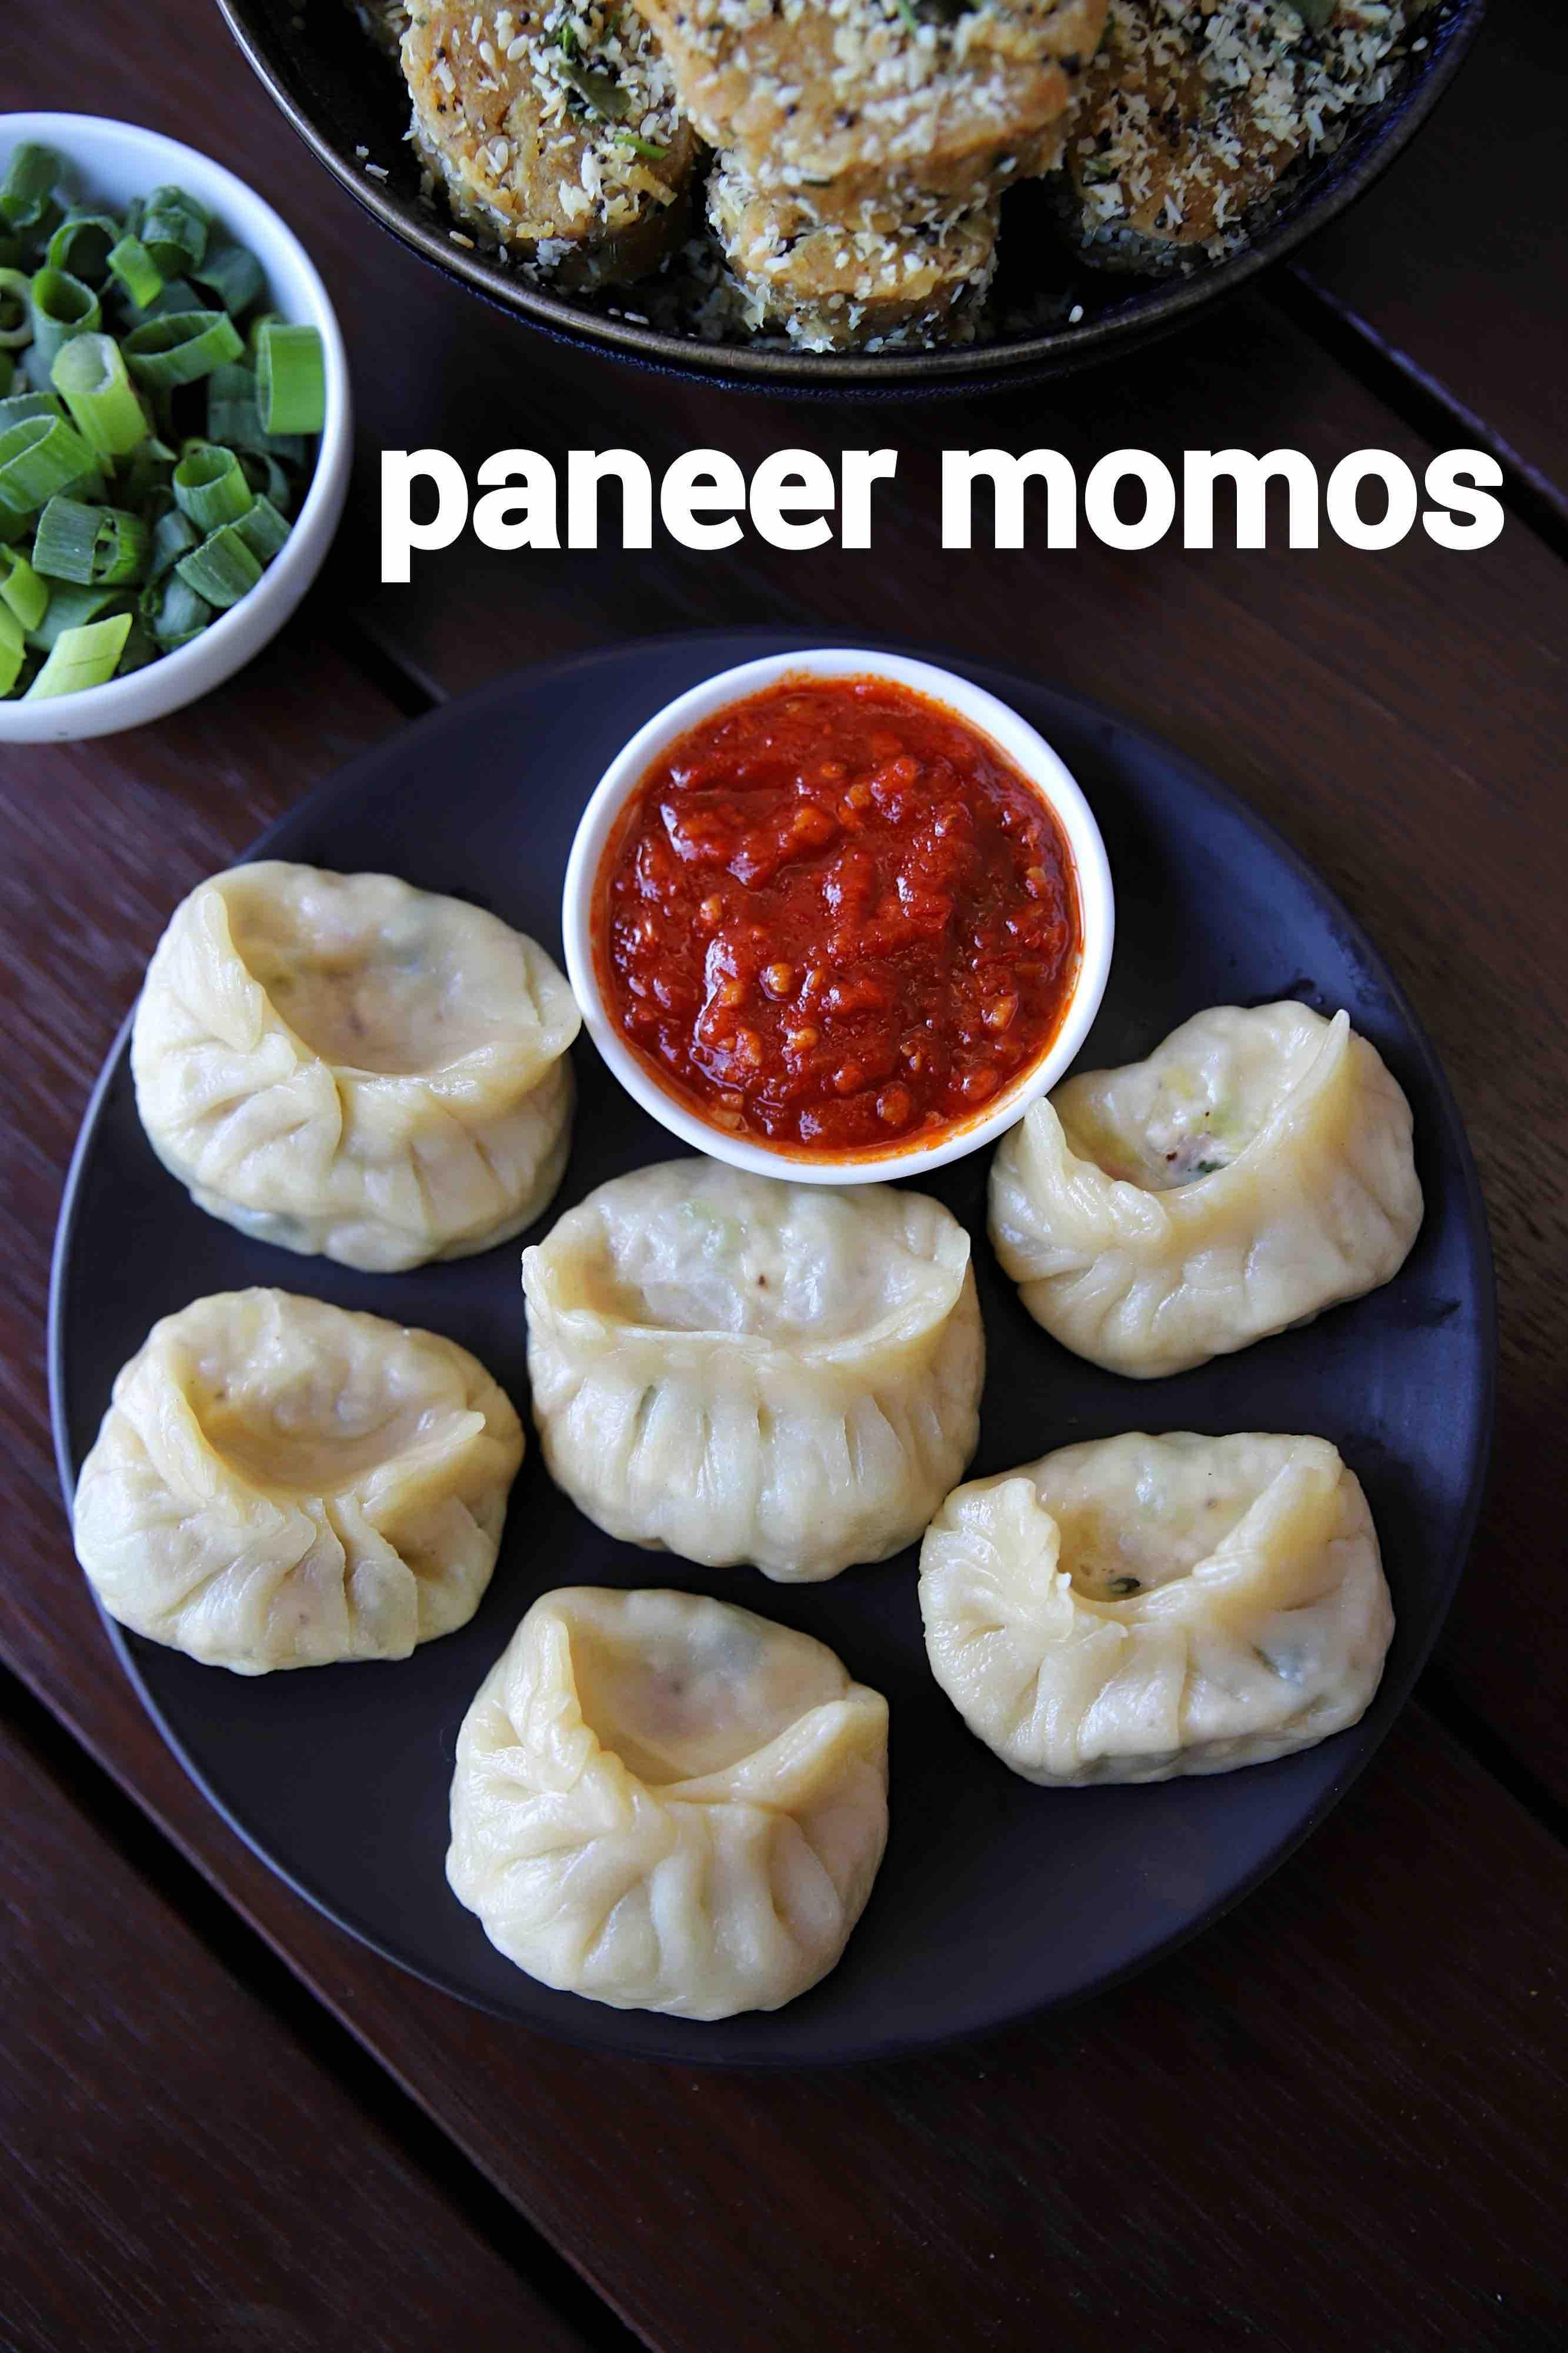momos: (523, 1158, 983, 1581), (446, 1585, 887, 2022), (133, 859, 579, 1274), (73, 1288, 523, 1672), (919, 1435, 1393, 1788), (989, 1002, 1419, 1379)
